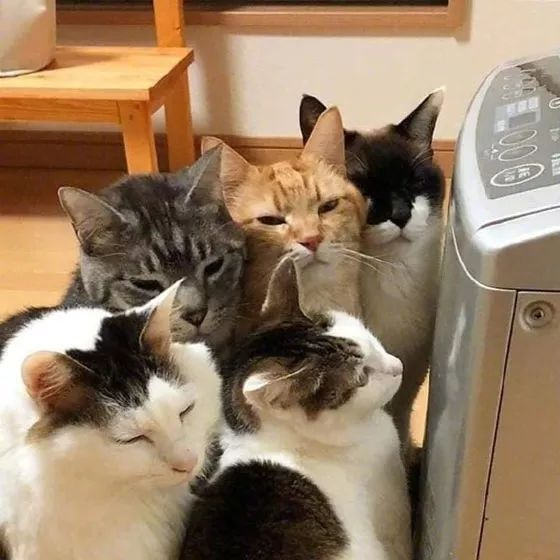cat: (178, 258, 418, 560), (1, 275, 231, 560), (298, 86, 444, 464), (202, 105, 368, 349), (55, 141, 248, 348)
